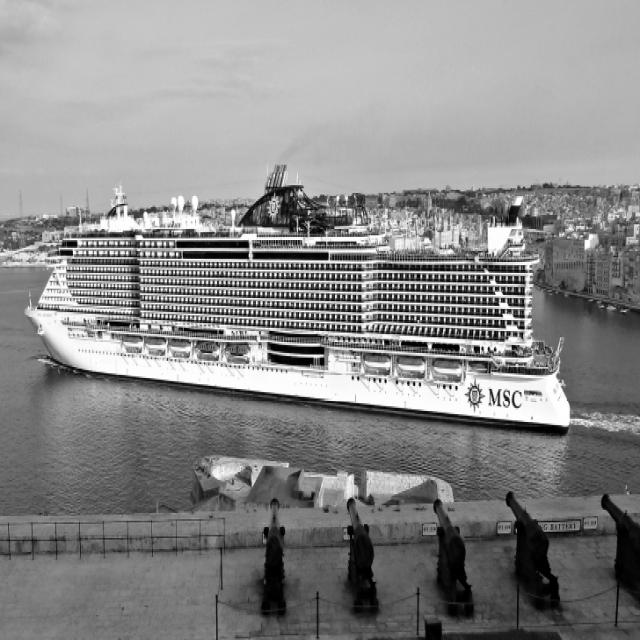cruises: (16, 159, 576, 445)
